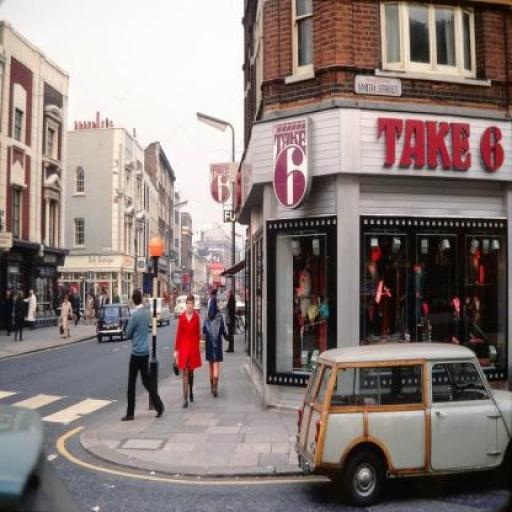street light: (197, 111, 237, 352), (168, 198, 188, 308)
